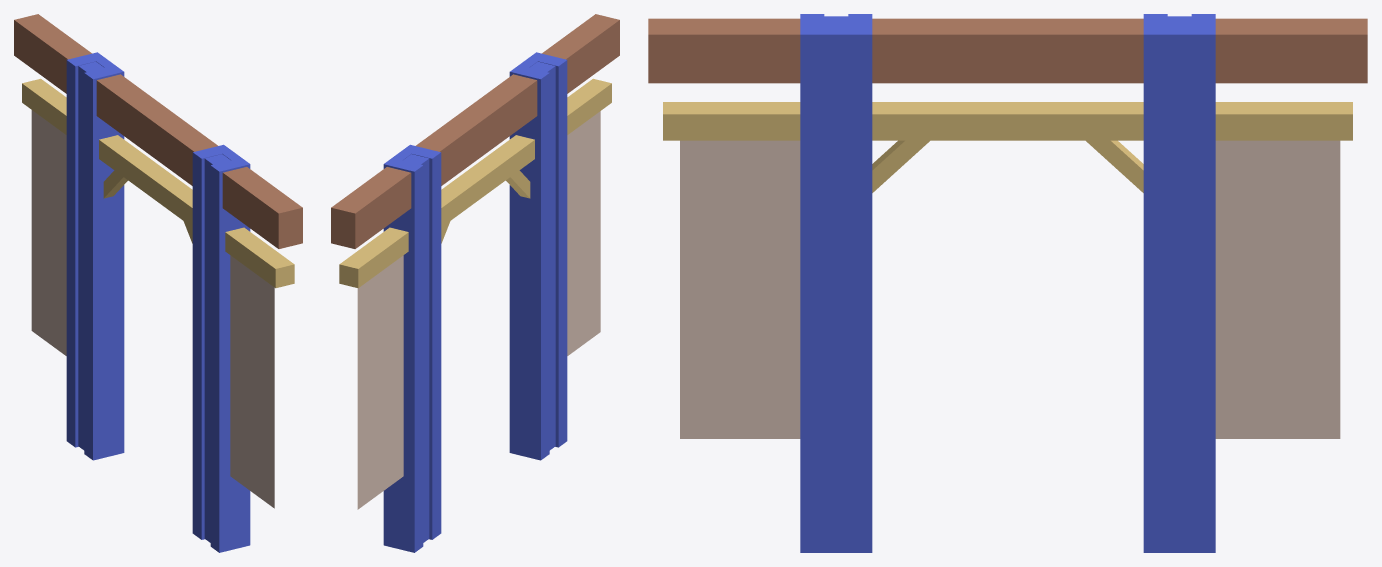
The model's file is WallMiddle.fbx.
3 views of the same model, side by side, from view 1: azimuth 30°, elevation 25°; view 2: azimuth 150°, elevation 25°; view 3: azimuth 270°, elevation 25° (orthographic). The views are drawn at different scales.
Visible parts, largest first — view 1: Kitchen_MiddleWall; view 2: Kitchen_MiddleWall; view 3: Kitchen_MiddleWall.
Boxes of the visible parts, x1,y1,x2,y2 form: Kitchen_MiddleWall: [14, 14, 302, 552]; Kitchen_MiddleWall: [331, 14, 619, 552]; Kitchen_MiddleWall: [648, 14, 1367, 552].
Bounding box in the file's own units: 30.35 × 356 × 448.
